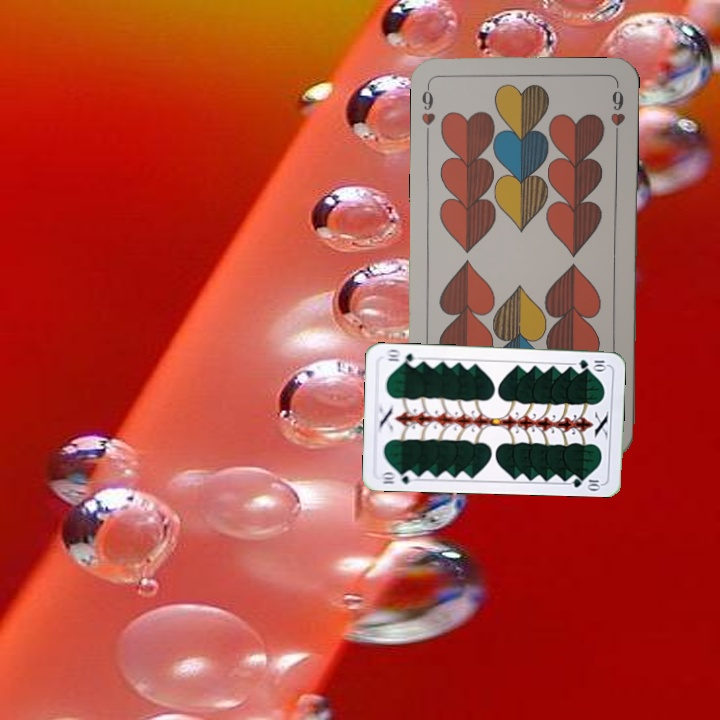G10: (377, 467, 418, 487), (574, 356, 609, 371)
H9: (417, 80, 438, 139)
